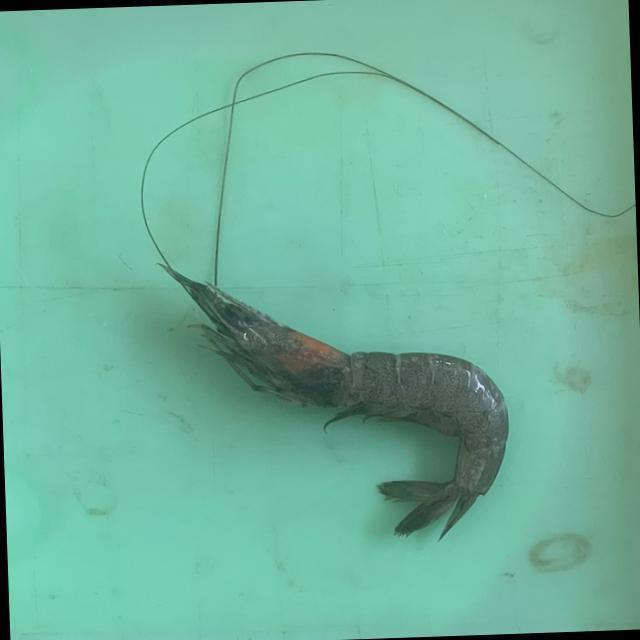shrimp: (163, 265, 509, 536)
